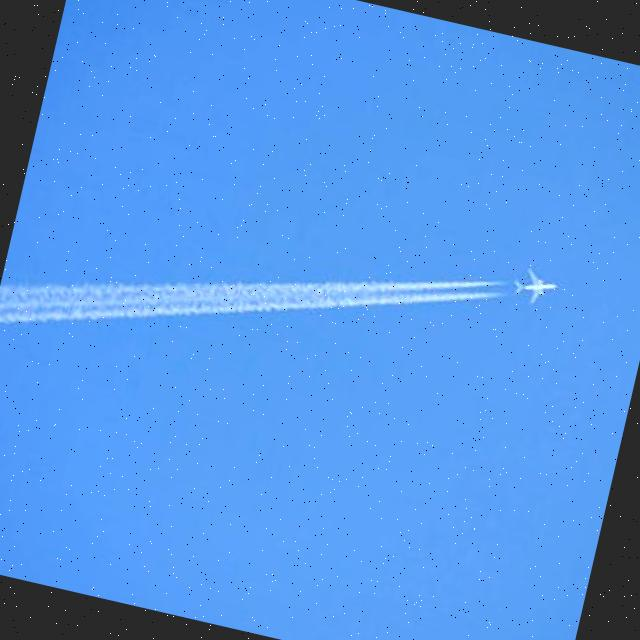Ct: (1, 94, 509, 473)
